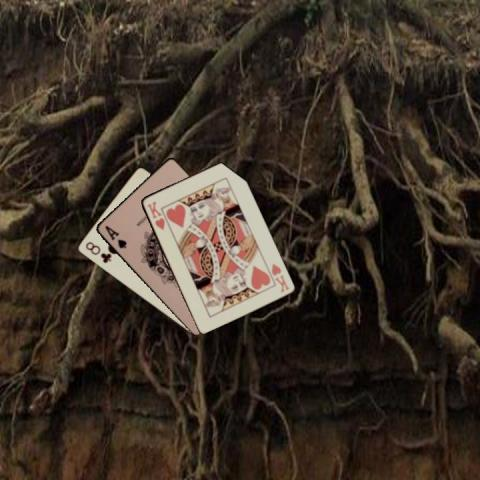8c: (82, 238, 112, 264)
As: (101, 223, 128, 250)
Kh: (268, 261, 291, 294), (144, 198, 166, 231)
